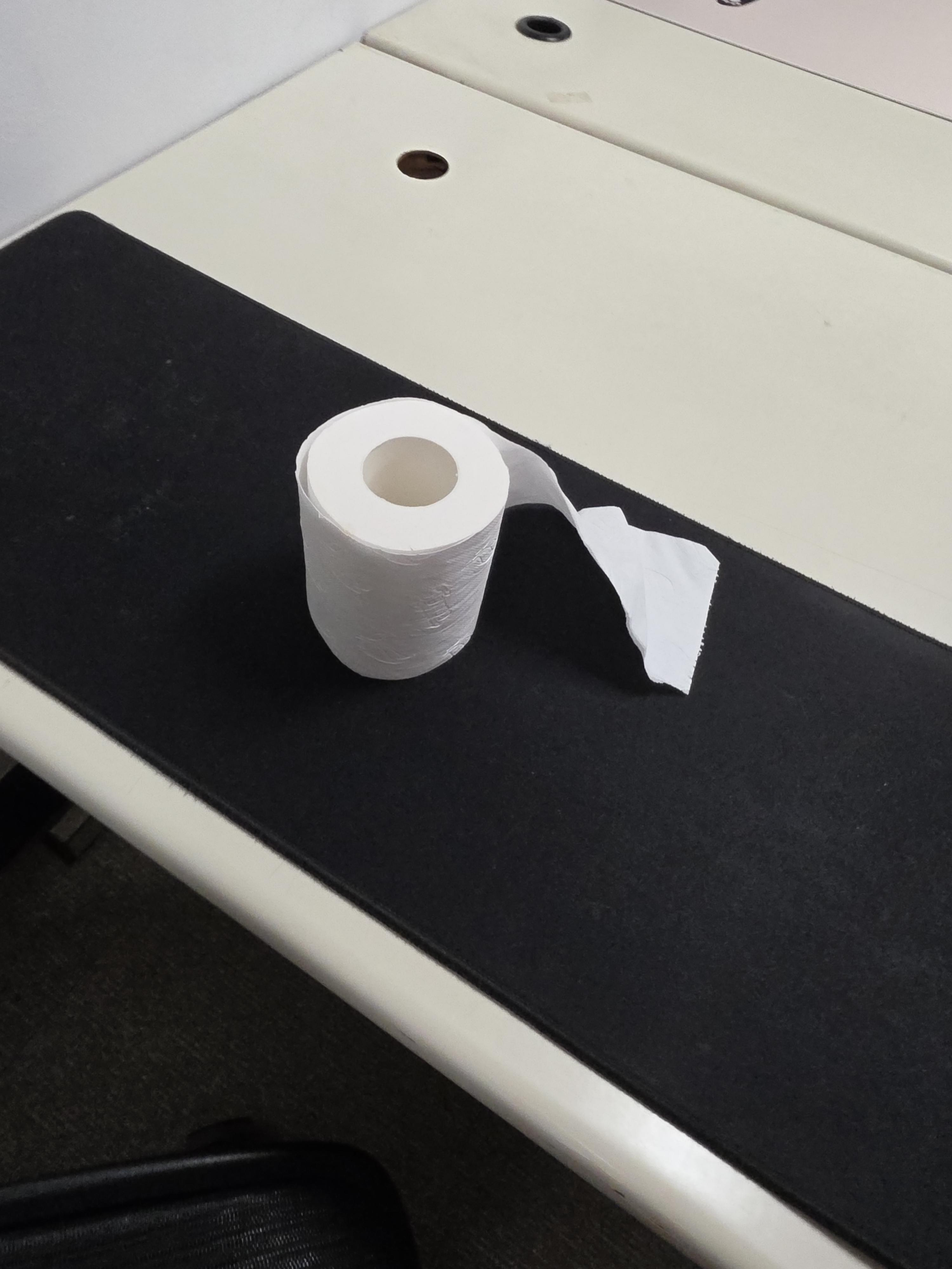tissue: (294, 395, 721, 696)
